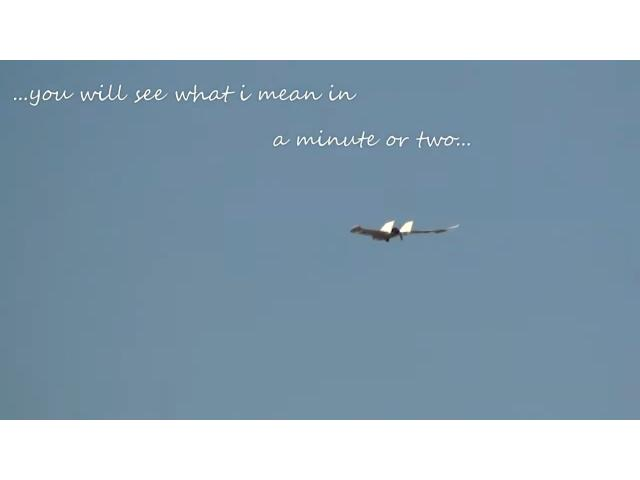Anti-Drone: (352, 220, 460, 242)
